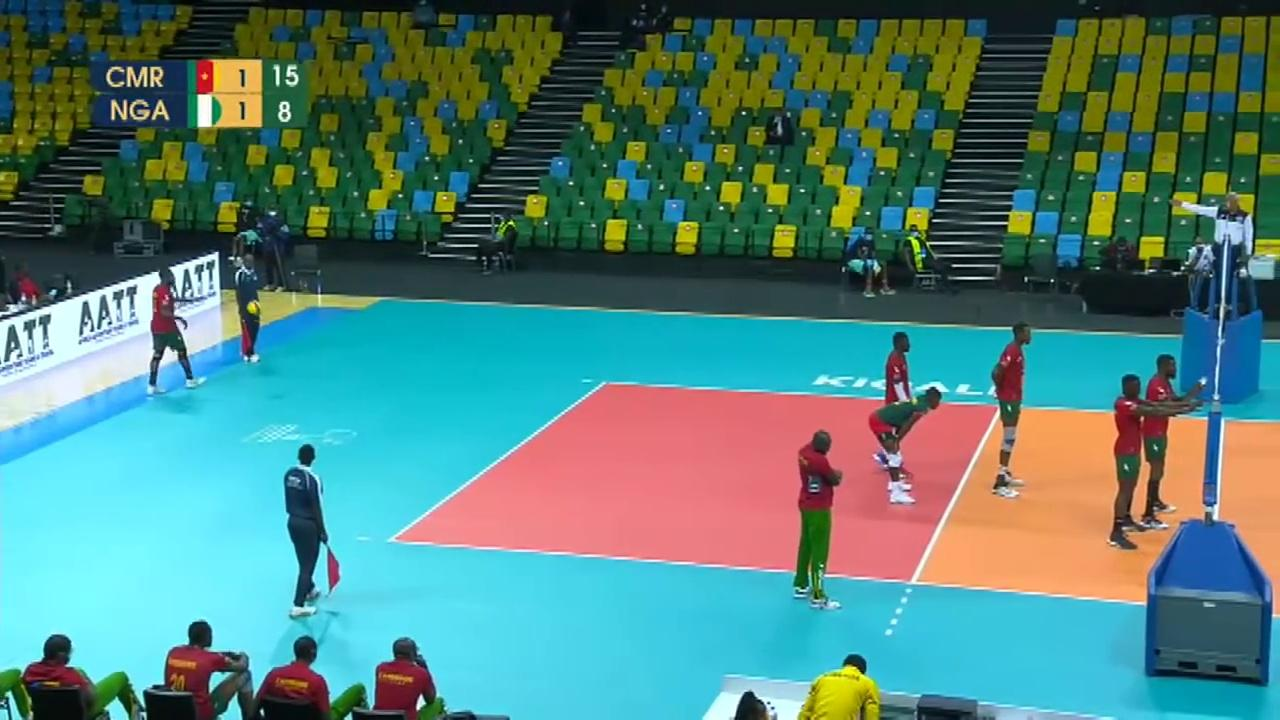player: (1139, 354, 1202, 529), (1106, 374, 1164, 551), (875, 386, 941, 499), (985, 326, 1029, 494), (144, 268, 203, 392), (874, 333, 914, 473)
refree: (284, 447, 340, 614), (1190, 189, 1258, 313), (232, 254, 264, 362)
